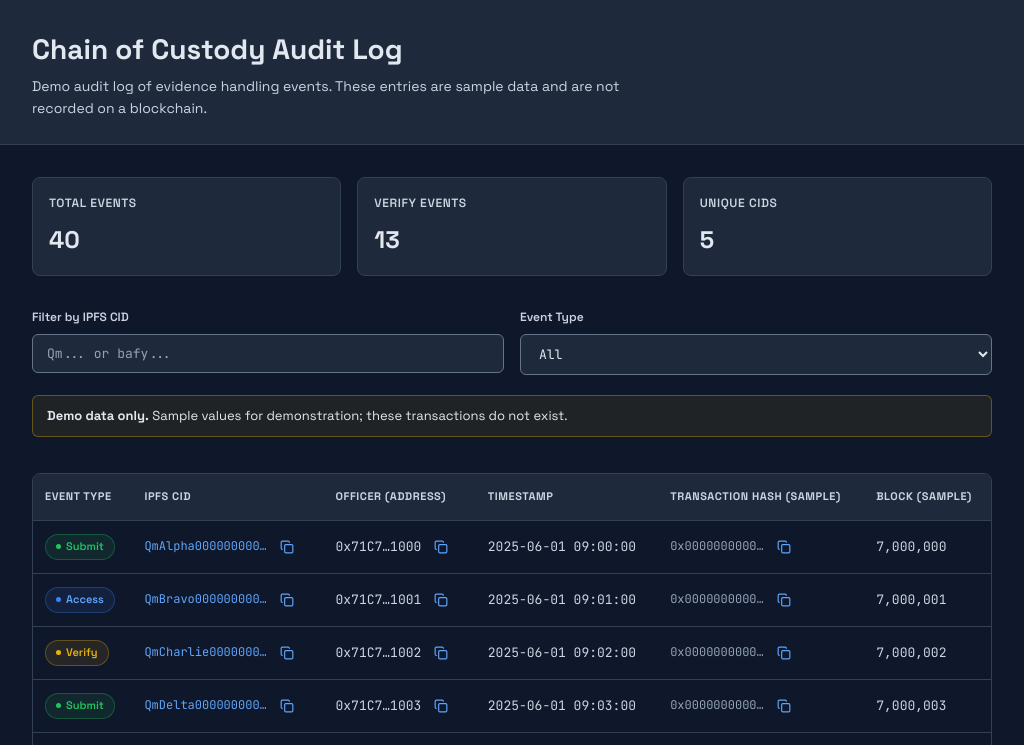
Test: ChainOfCustody: filtering › filters by CID, ignoring case and surrounding spaces
In the field labelled "Filter by IPFS CID": (268, 353) [32,334,504,372], type "  bRaVo "
(page scrolled)
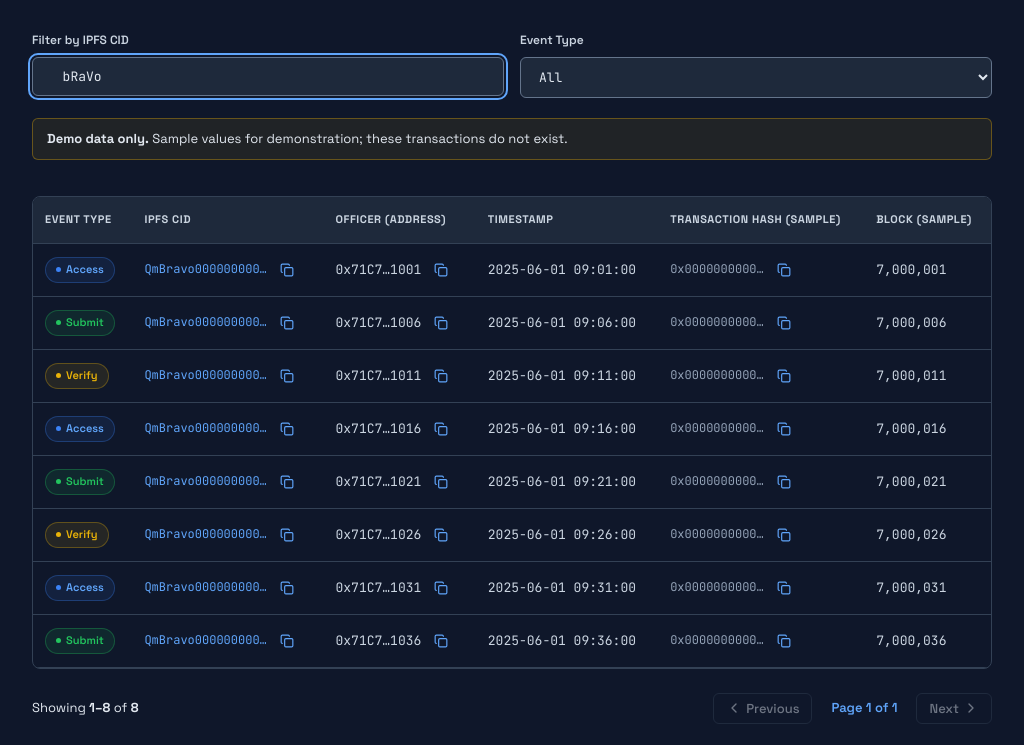
Now the cell "QmBravo000000000…" next to "0x71C7…1011" is shown, box [144,367,267,383]
Now the cell "QmBravo000000000…" next to "0x71C7…1016" is shown, box [144,420,267,436]
Now the cell "QmBravo000000000…" next to "0x71C7…1021" is shown, box [144,473,267,489]
